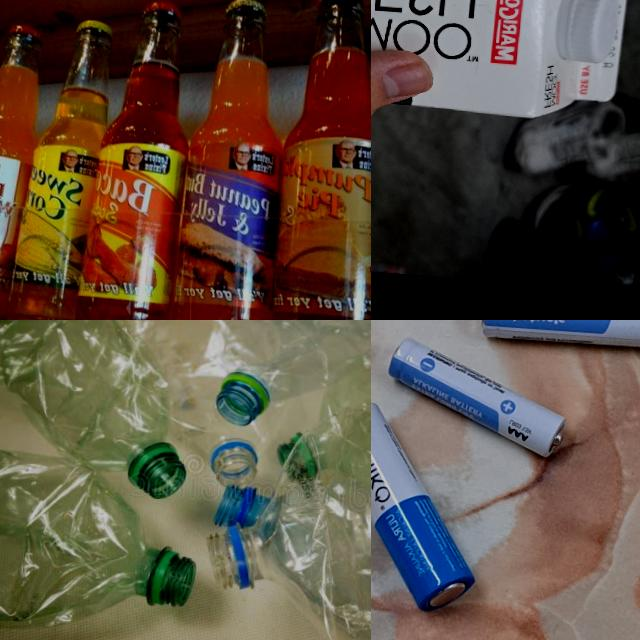bateria: (371, 399, 485, 614), (381, 336, 569, 458), (479, 320, 640, 349)
caixinha: (371, 0, 637, 127)
garrafa de vidro: (169, 0, 292, 320), (74, 0, 197, 320), (4, 16, 117, 320), (268, 0, 371, 320), (0, 19, 41, 319)
garrafa plástica: (0, 413, 203, 640), (204, 371, 371, 616), (0, 320, 201, 501), (106, 320, 282, 491), (201, 484, 371, 640), (215, 320, 371, 436), (276, 320, 371, 506)
tampa plástica: (555, 0, 621, 65)
